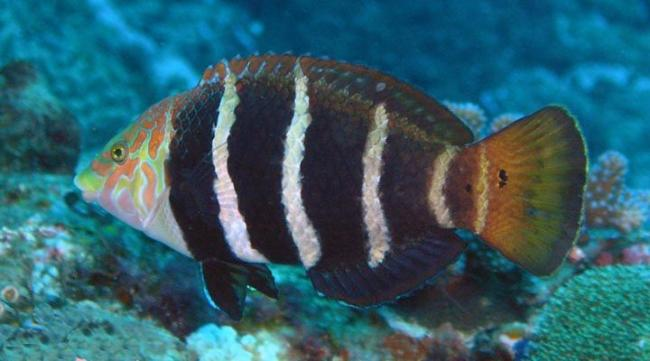fish: (72, 49, 590, 322)
